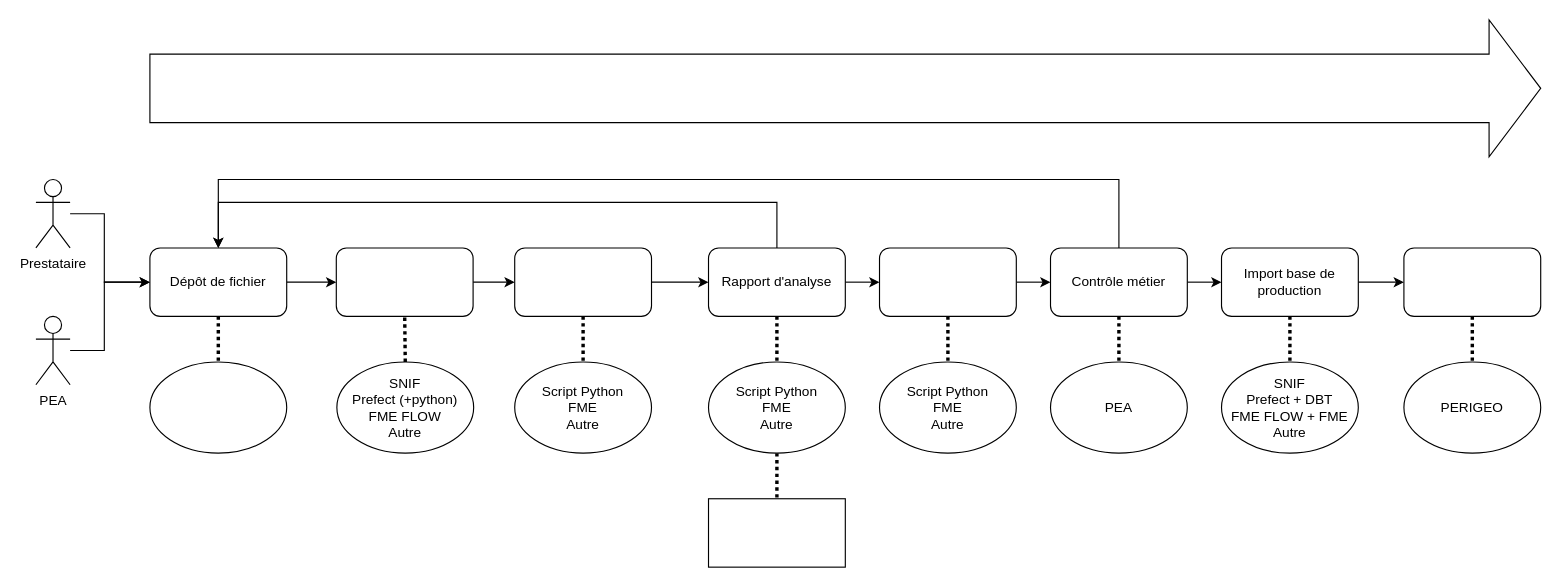
Some shapes in this 1561 by 587 pixel diagram are drawn without their labels. Each missing label, with the centre of its shape:
"Analyse dossier de dépot" goes at pixel 404 281.
"Contrôle" goes at pixel 583 281.
"Formulaire Périgeo" goes at pixel 218 407.
"Import base tampon" goes at pixel 947 281.
"Interface de Gestion PERIGEO ou autre" goes at pixel 845 88.
"Visualisation" goes at pixel 1472 281.
"Visualisation des entités en erreur sur PERIGEO ou autre" goes at pixel 776 532.
